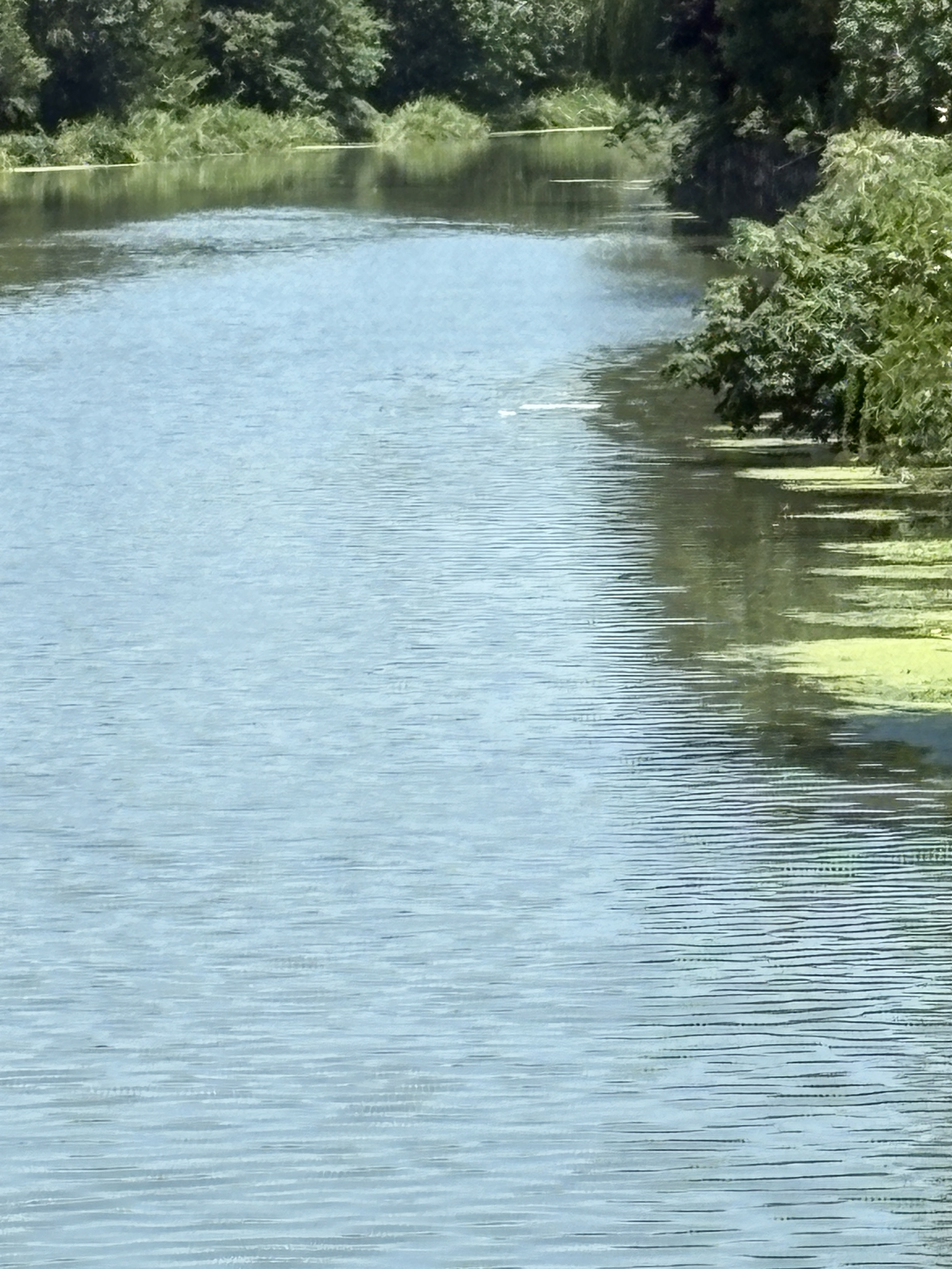Other: (472, 4, 530, 197), (436, 0, 470, 182), (402, 3, 430, 156), (347, 104, 371, 280)
Plastic wastes: (298, 466, 312, 573)
